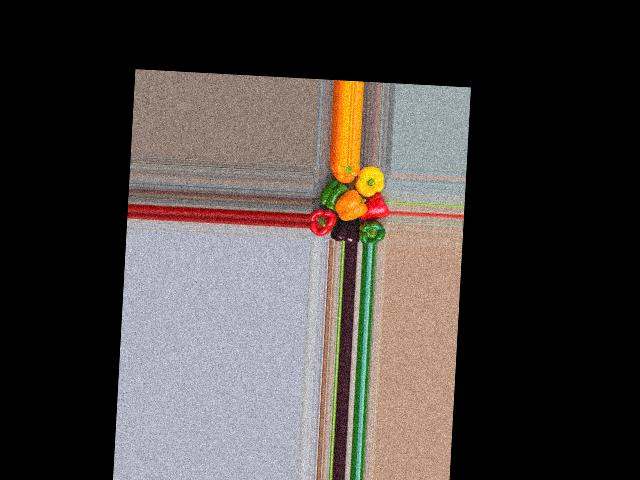bell_pepper: (321, 163, 359, 190)
